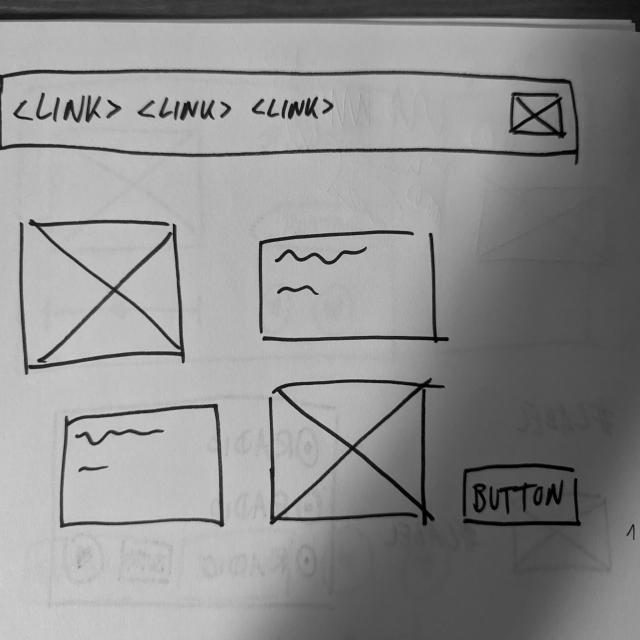button: (458, 459, 584, 533)
container: (1, 65, 584, 165)
image: (15, 217, 191, 377), (267, 378, 433, 531), (508, 87, 569, 141)
link: (11, 87, 125, 128), (137, 93, 237, 123), (250, 92, 338, 124)
textarea: (254, 225, 450, 350), (57, 402, 229, 533)
